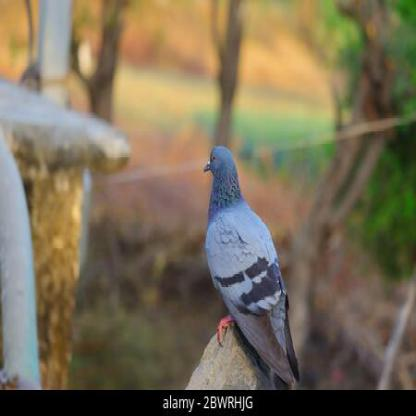Rock Pigeon: (204, 145, 302, 383)
